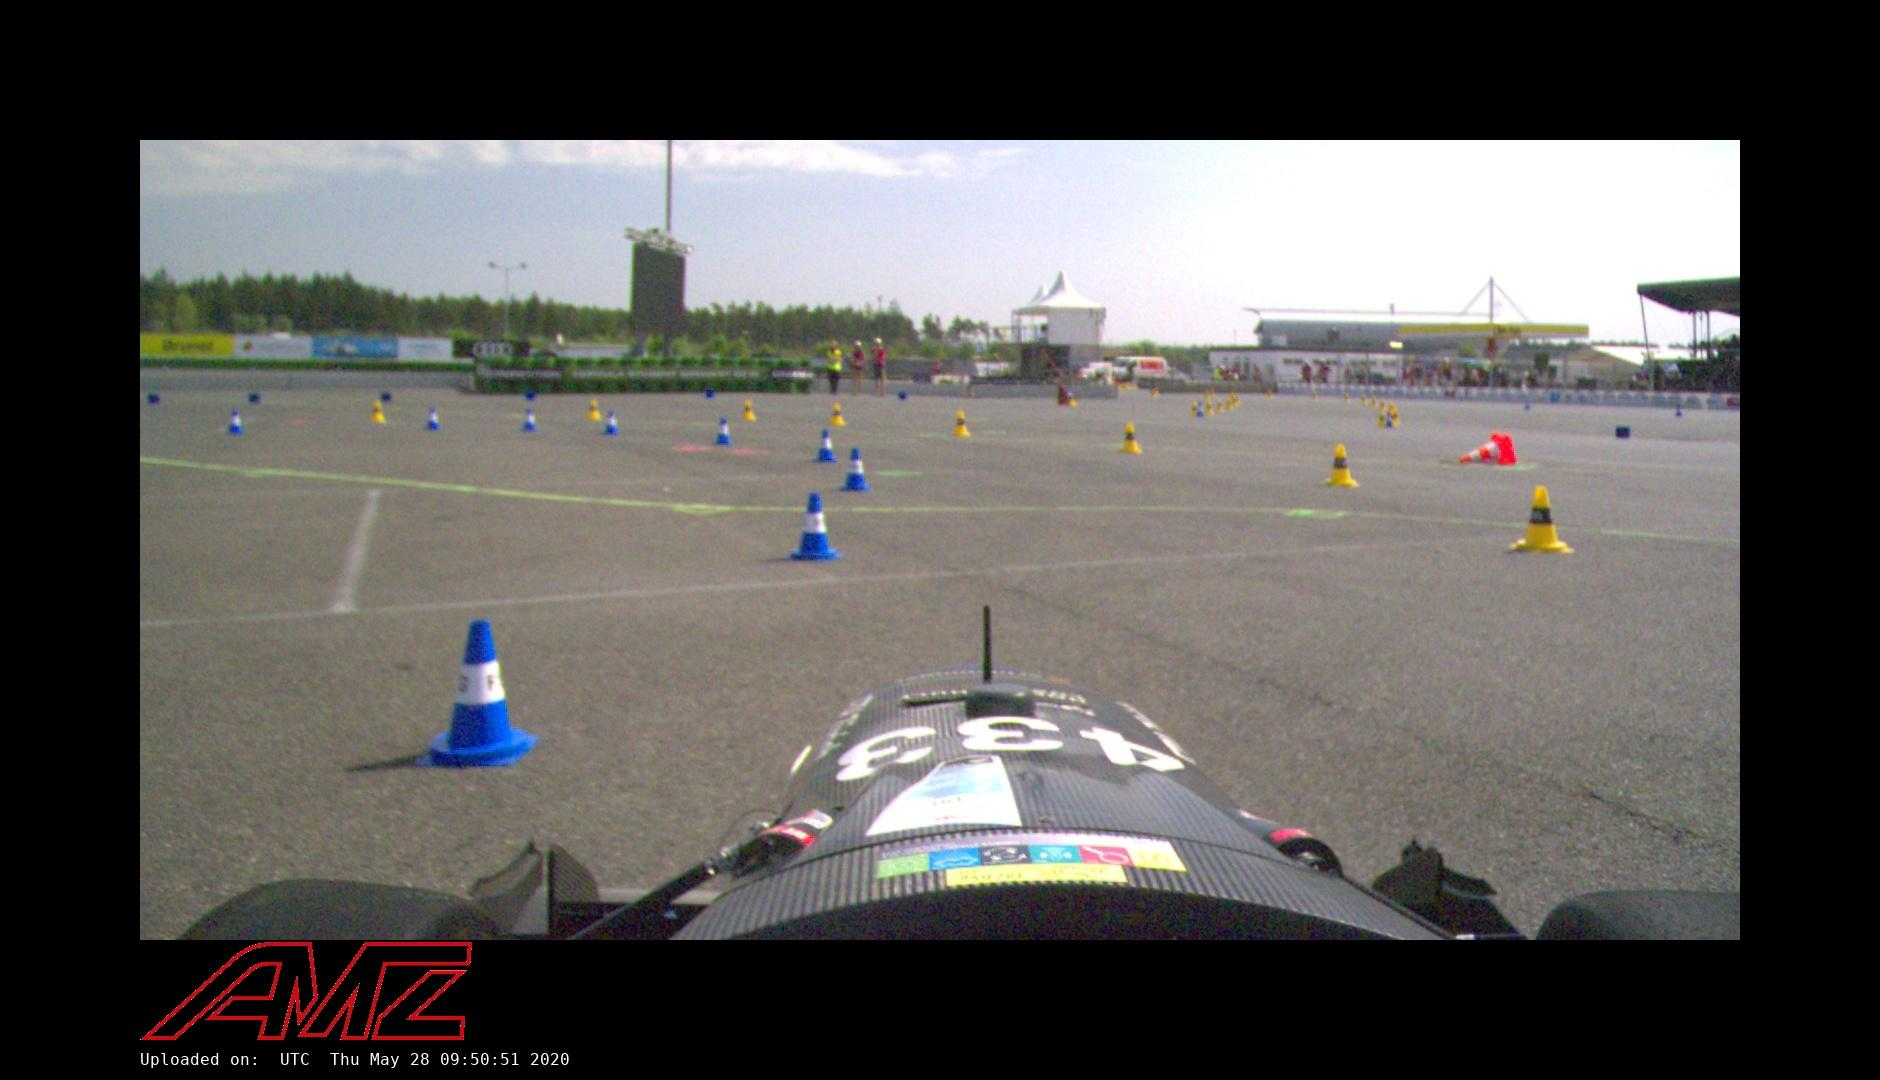blue_cone: (414, 619, 538, 766), (786, 491, 844, 565), (839, 447, 873, 491), (811, 429, 837, 462), (225, 408, 247, 435), (711, 417, 732, 446), (602, 410, 621, 435), (522, 407, 538, 431), (424, 406, 440, 430), (1196, 402, 1203, 417)
orange_cone: (1458, 431, 1517, 466)
yellow_cone: (1509, 484, 1575, 556), (1322, 444, 1358, 487), (1118, 422, 1141, 453), (950, 411, 970, 435), (826, 402, 844, 426), (369, 399, 387, 422), (585, 399, 602, 420), (739, 399, 755, 420), (1189, 402, 1200, 416)
